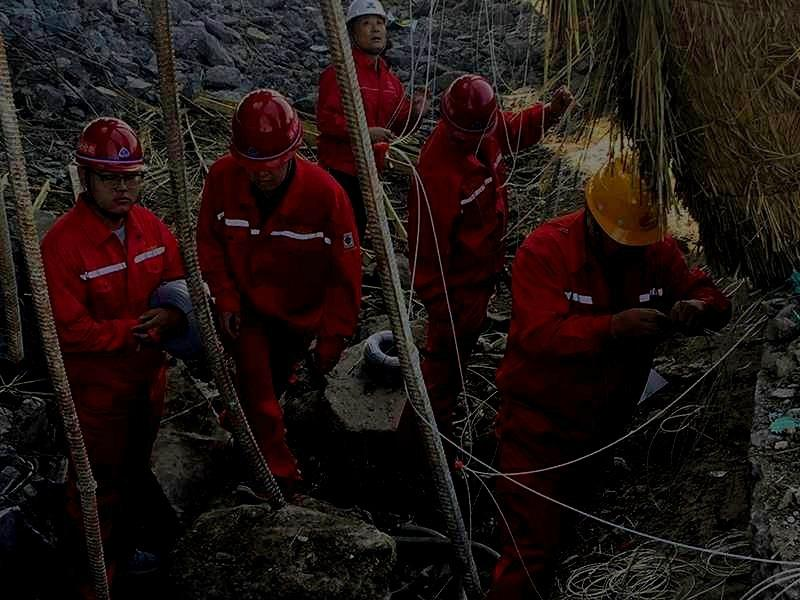helmet: (584, 153, 665, 269), (228, 88, 304, 191), (72, 116, 147, 213), (439, 73, 498, 140), (345, 1, 389, 50)
